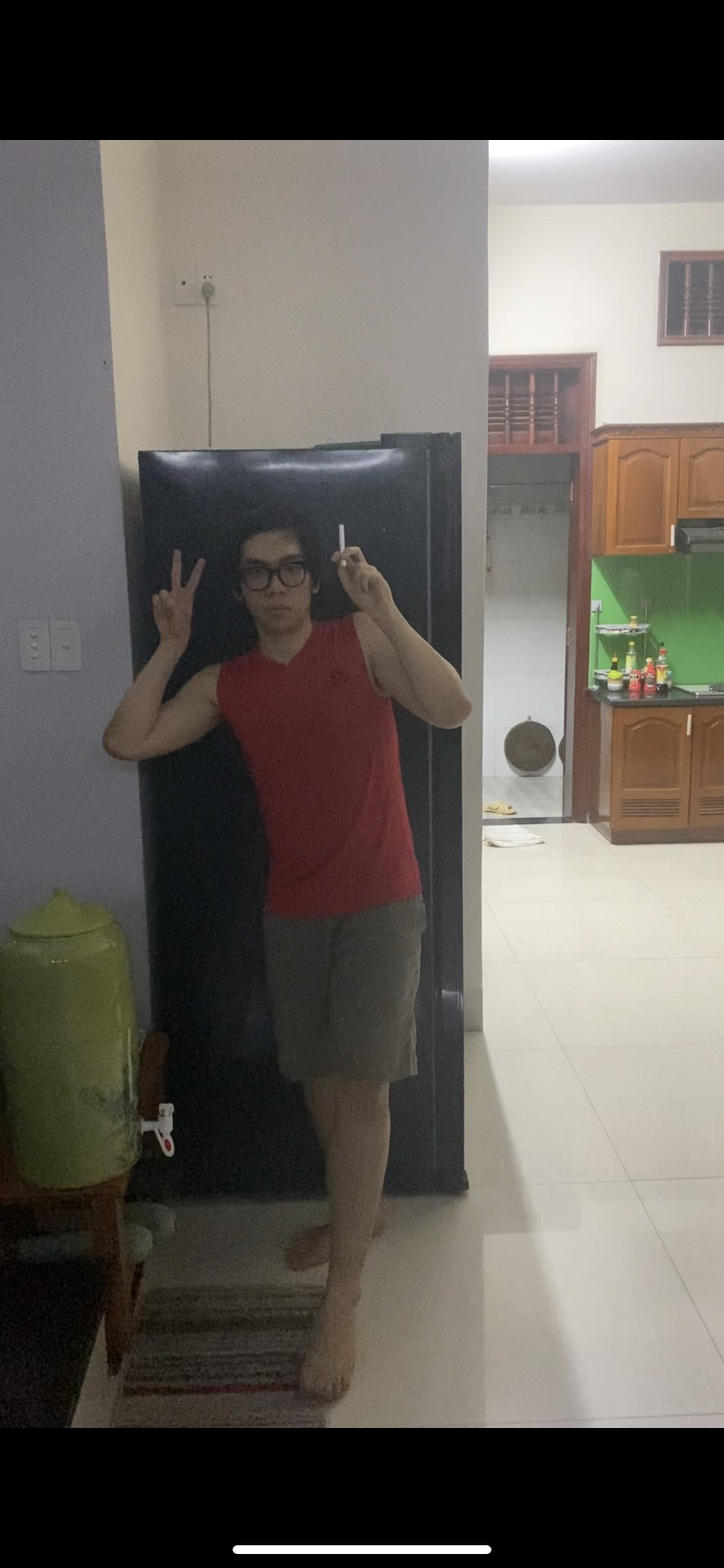cigarette: (332, 520, 352, 550)
